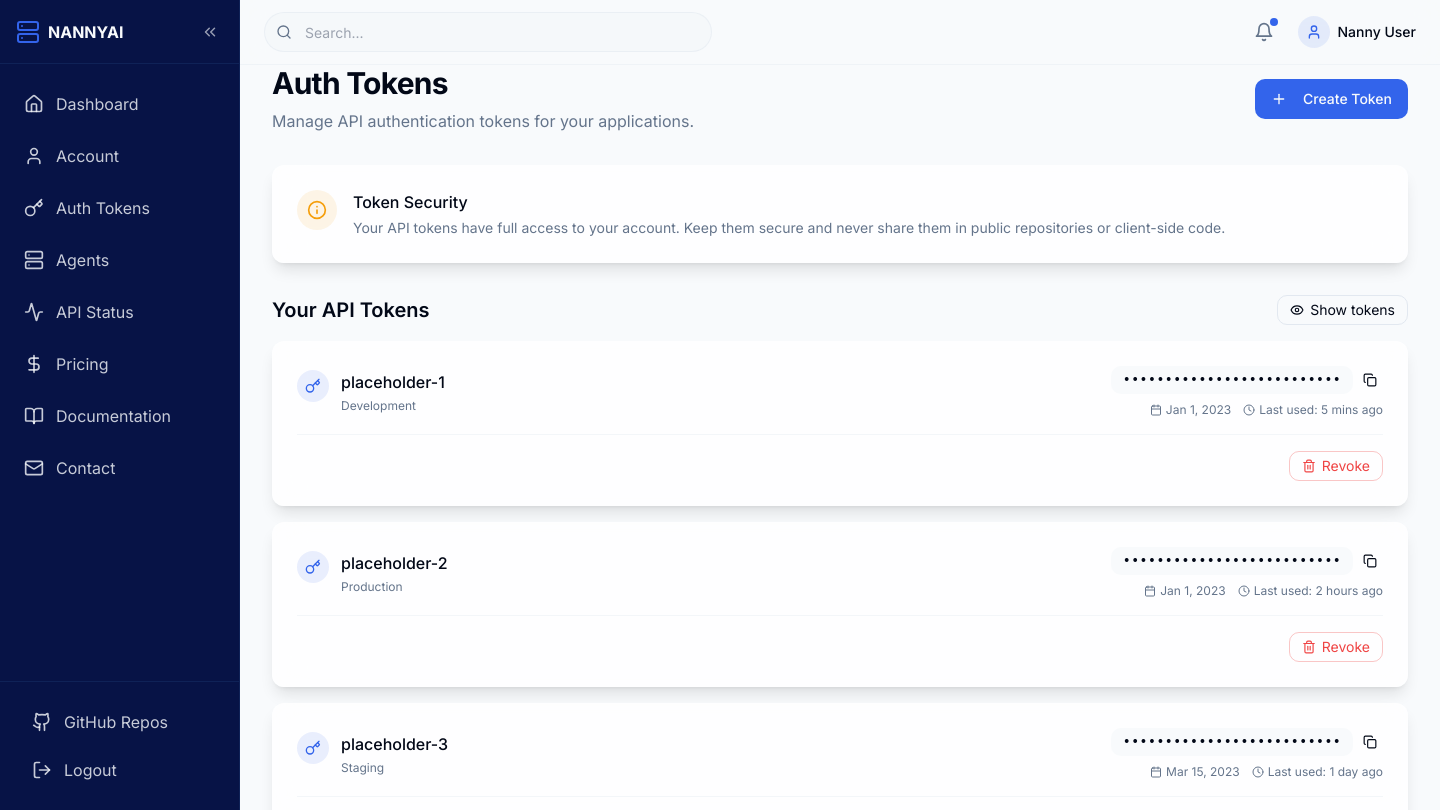
Test: Tokens component › should handle token creation process
Expected: the heading "Auth Tokens" is shown, [272, 65, 448, 101]
Note: Find and click create token button
Click the button "Create Token". click: click(1332, 99)
box: [1255, 79, 1408, 119]
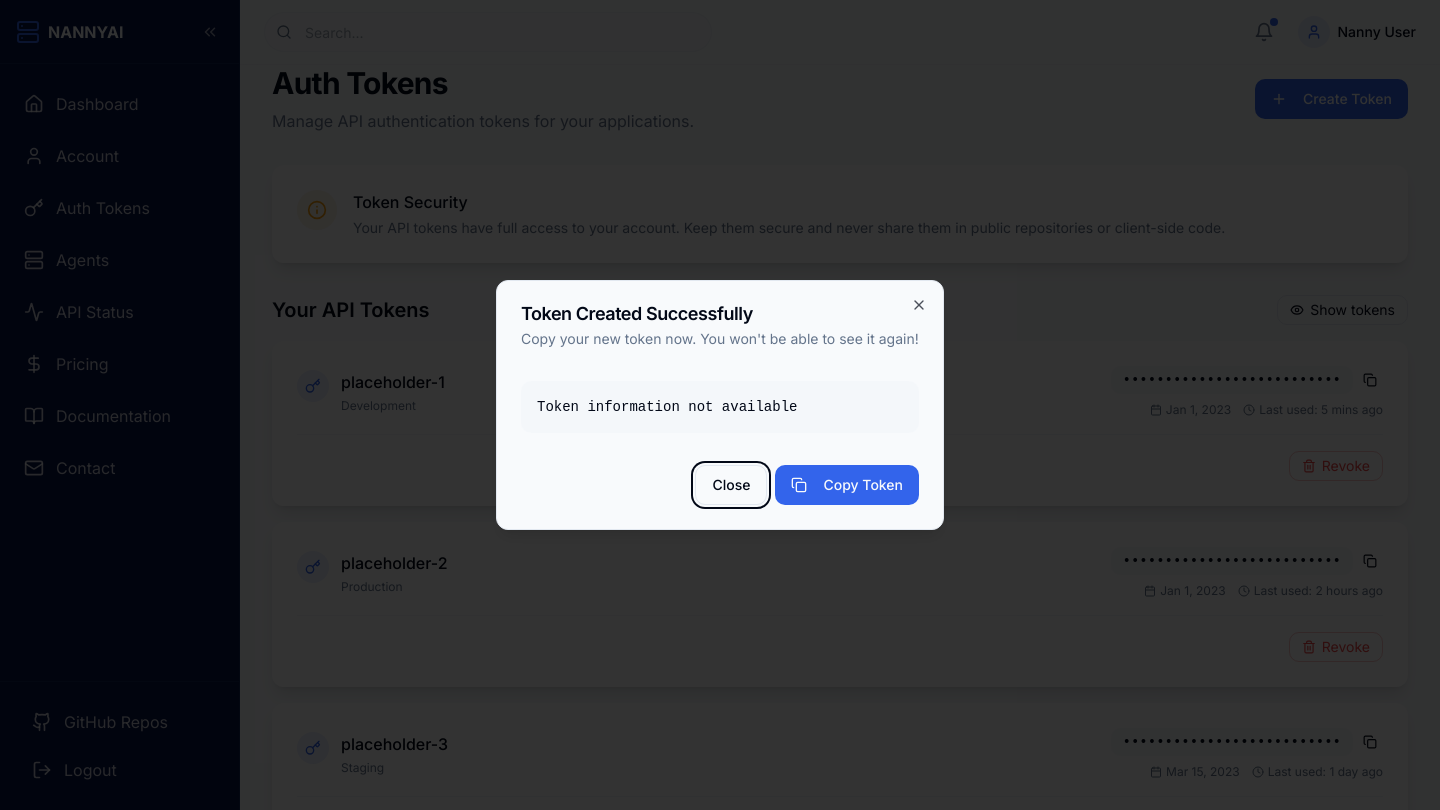
Expected: the heading "Token Created Successfully" is shown, [521, 303, 753, 324]
